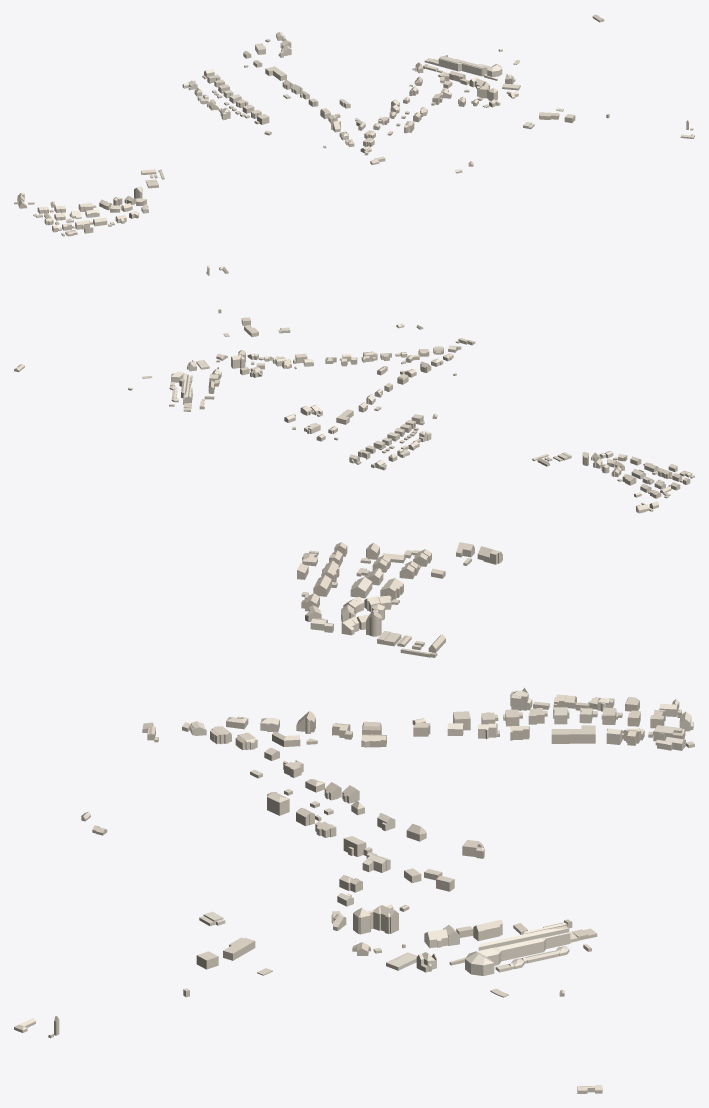
3 views of the same model, one above another, from view 1: azimuth 30°, elevation 25°; view 2: azimuth 150°, elevation 25°; view 3: azimuth 270°, elevation 25° (orthographic). The views are drawn at different scales.
Bounding box in the file's own units: 1206 × 110 × 608.
